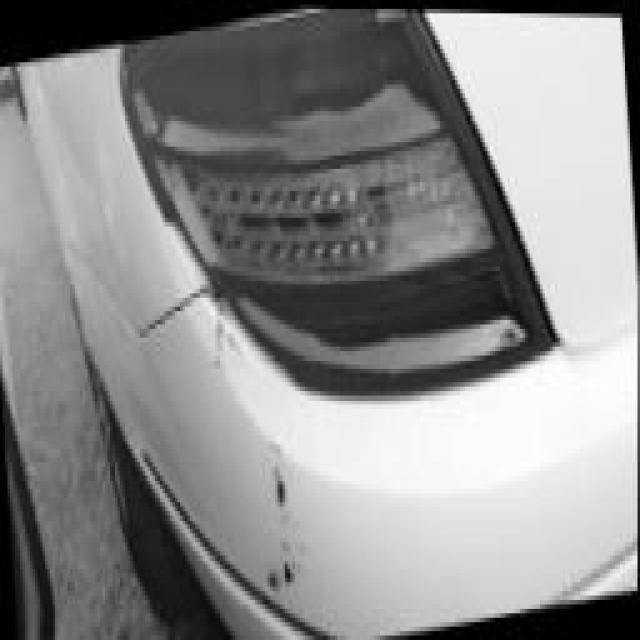Bumper: (195, 280, 320, 640)
